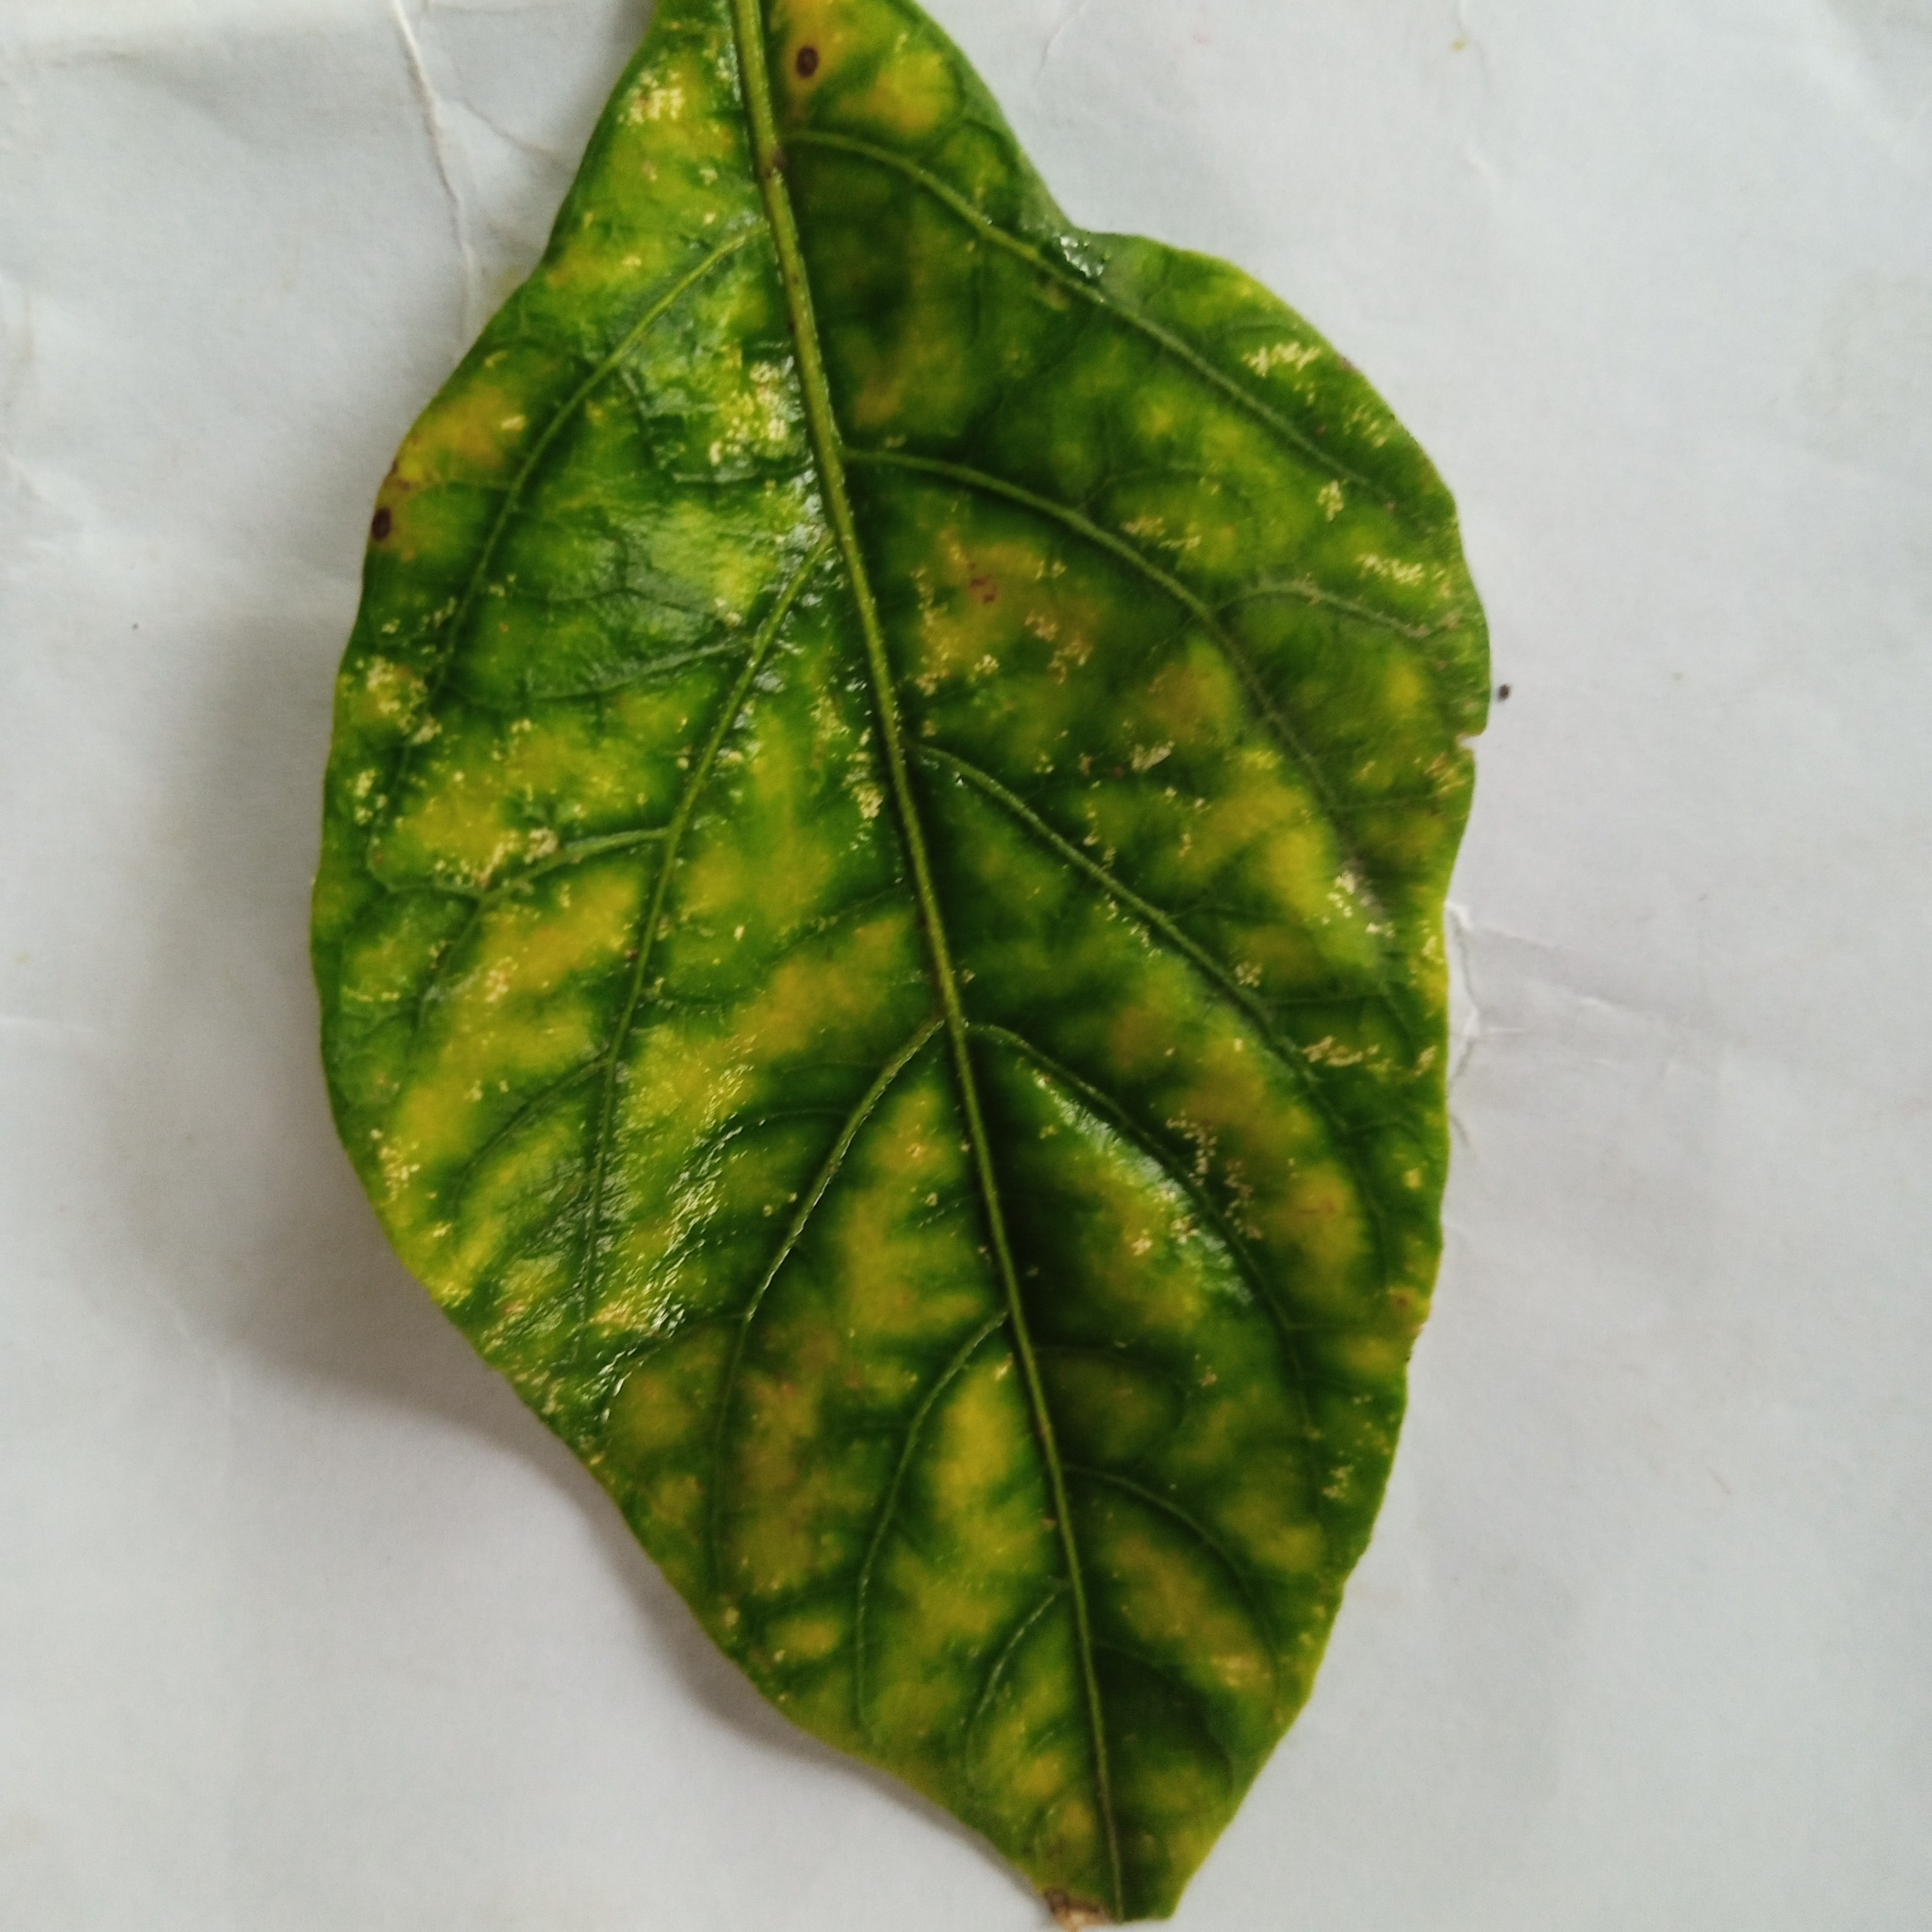Leaf: (260, 5, 1775, 1932)
